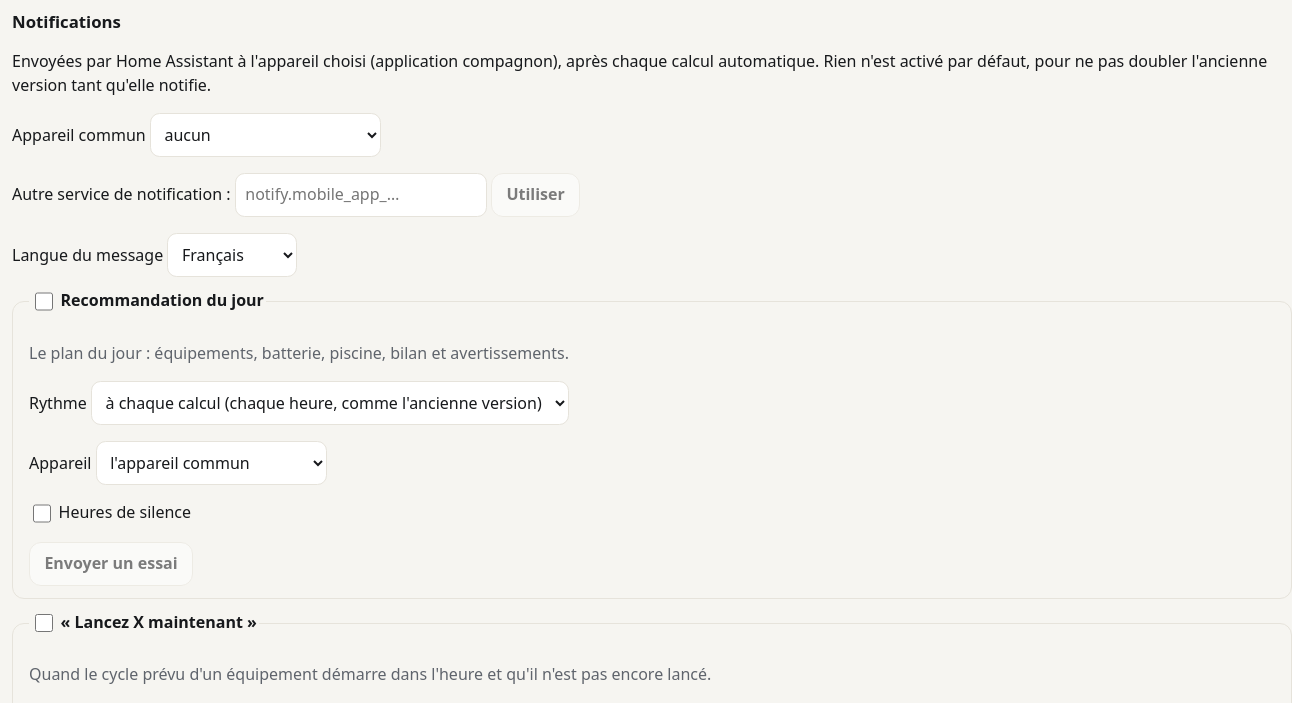
Test: SettingsScreen › notifications : n'enregistre que leurs réglages
Step 1. Select "notify.mobile_app_phone" in the dropdown labelled "Appareil commun" → (265, 135), box [150,113,381,157]
(page scrolled)
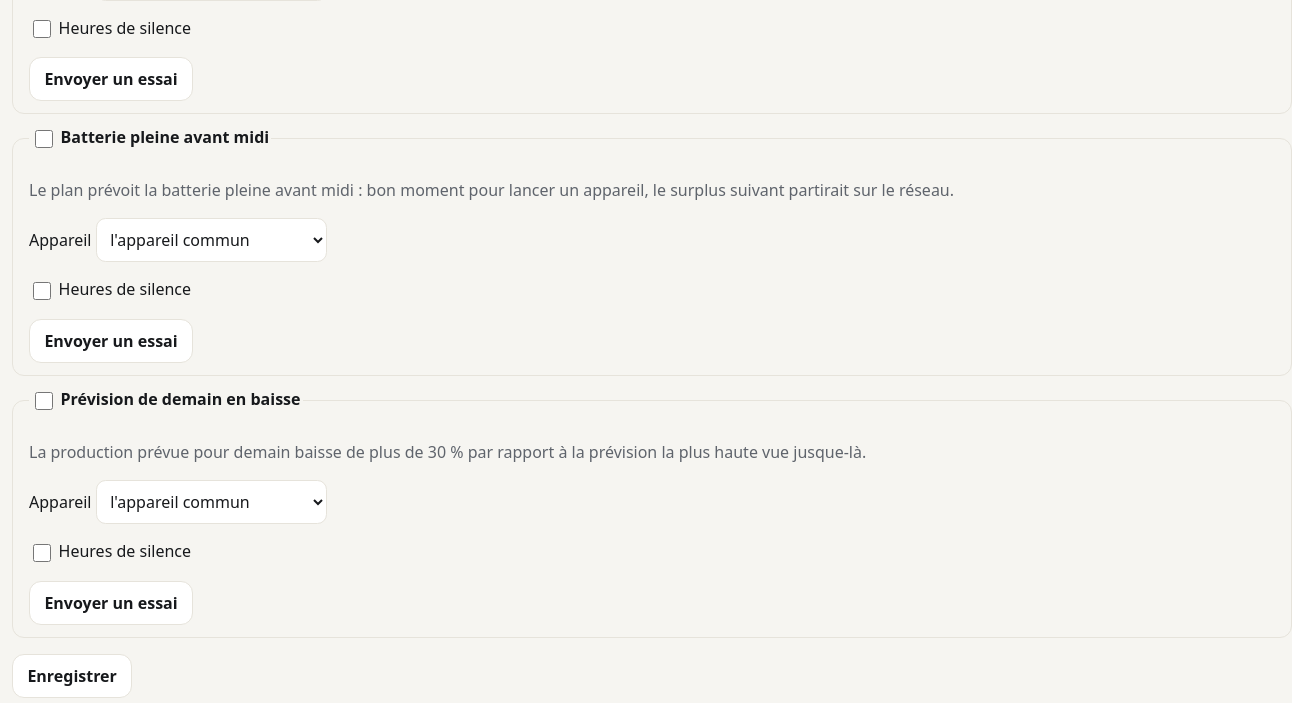
Step 2. Click the button "Enregistrer" → (72, 676), box [12,654,132,698]
(page scrolled)
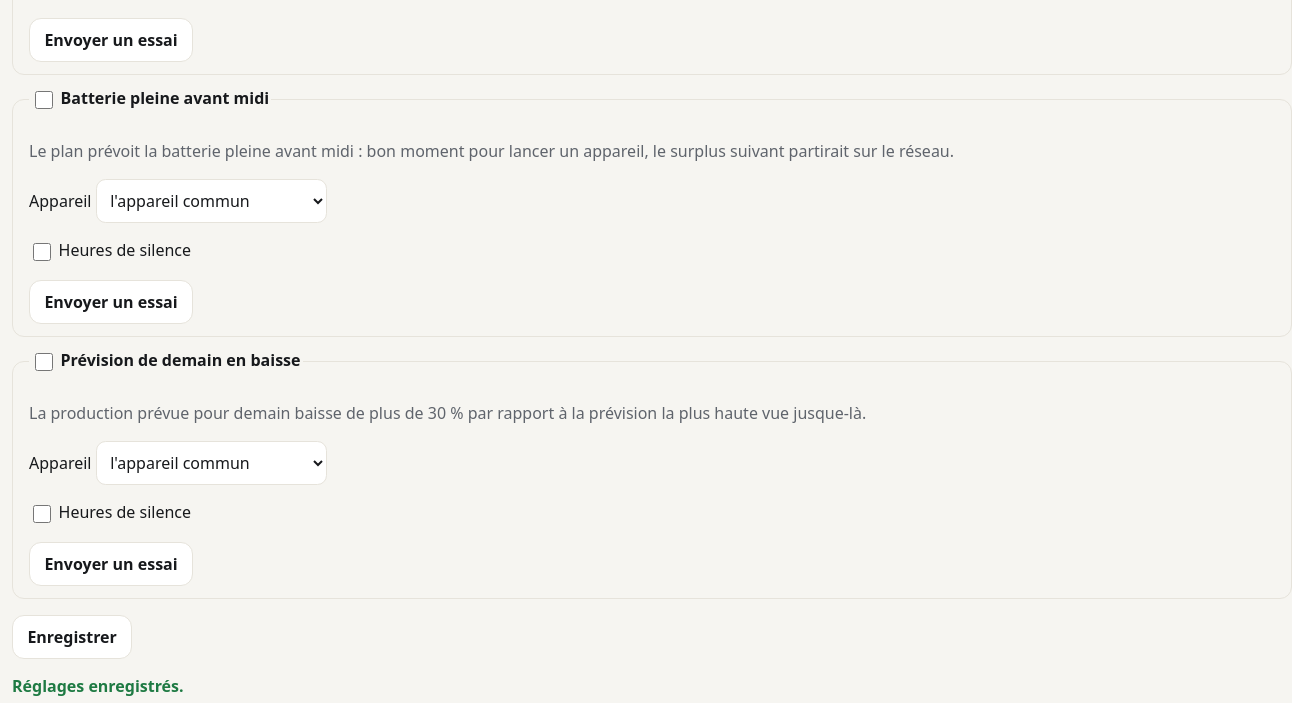
Now the text "Réglages enregistrés." is shown, box [12,675,184,697]
